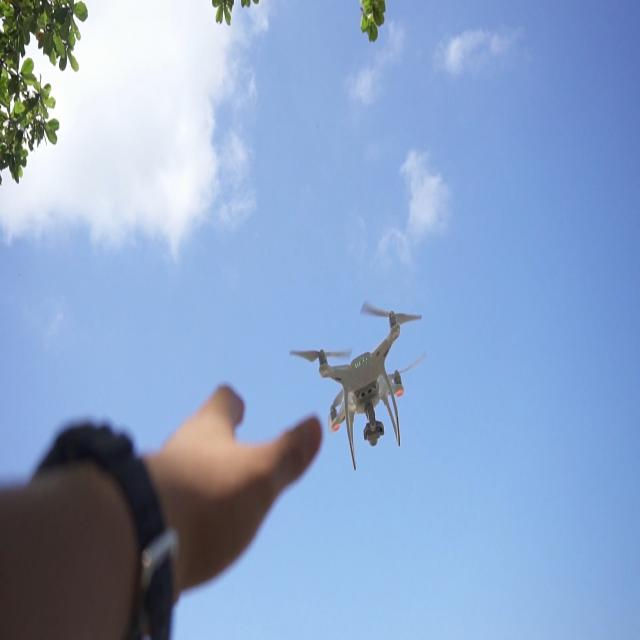Drone: (314, 310, 420, 464)
